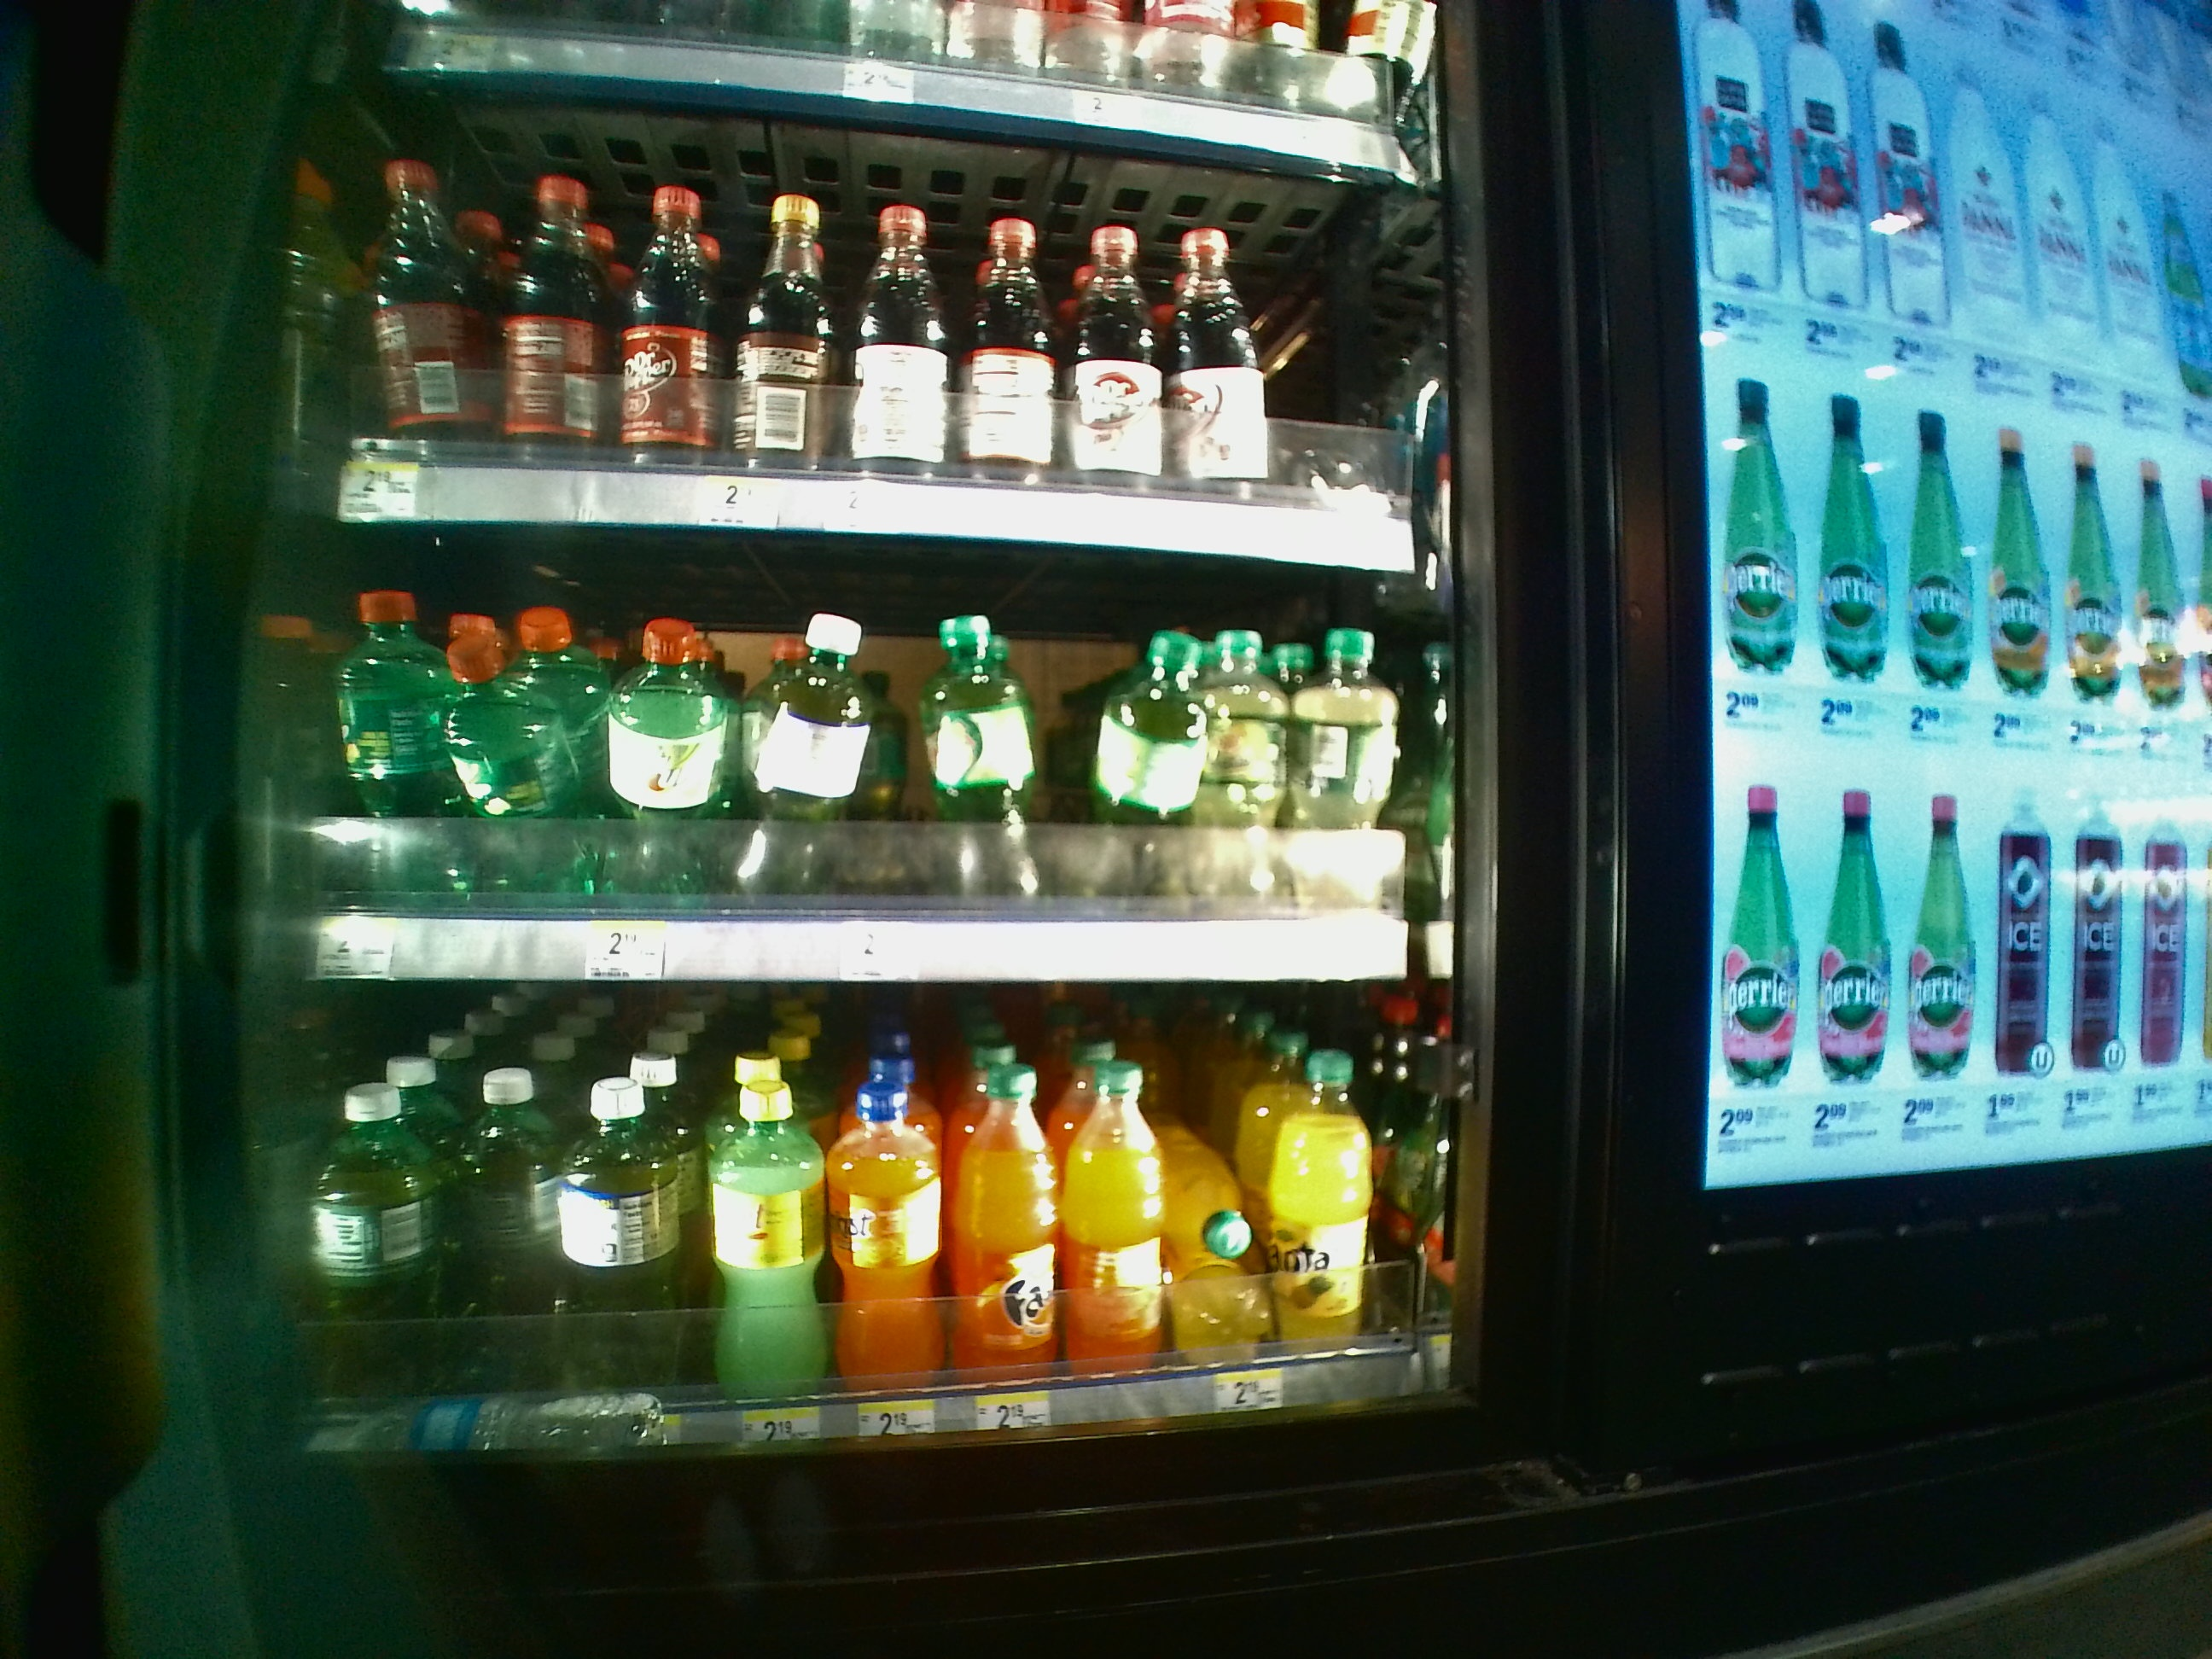shelf: (280, 518, 1463, 988), (280, 993, 1468, 1450)
